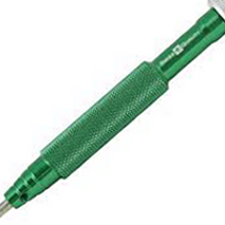screwdriver: (1, 1, 225, 215)
